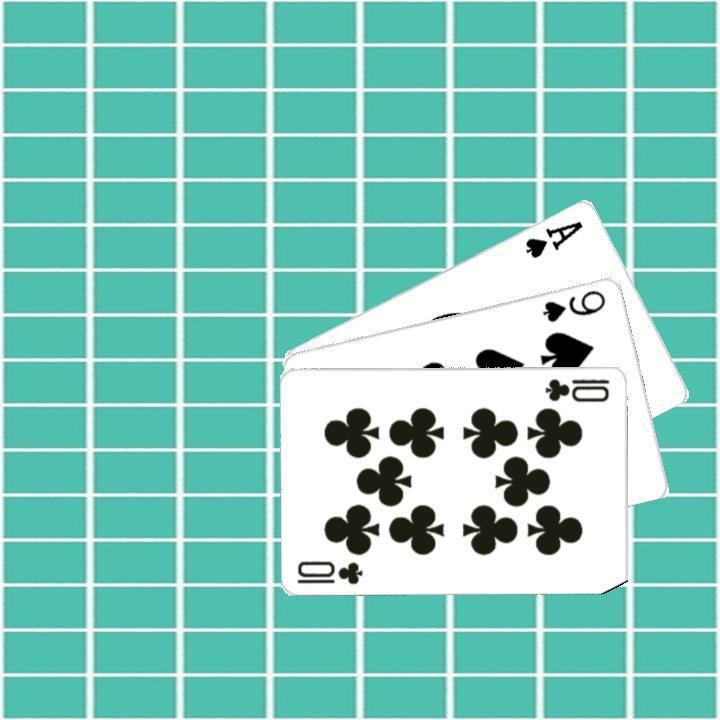10: (293, 555, 365, 586), (541, 373, 612, 403)
9: (538, 285, 608, 324)
A: (521, 216, 585, 260)
